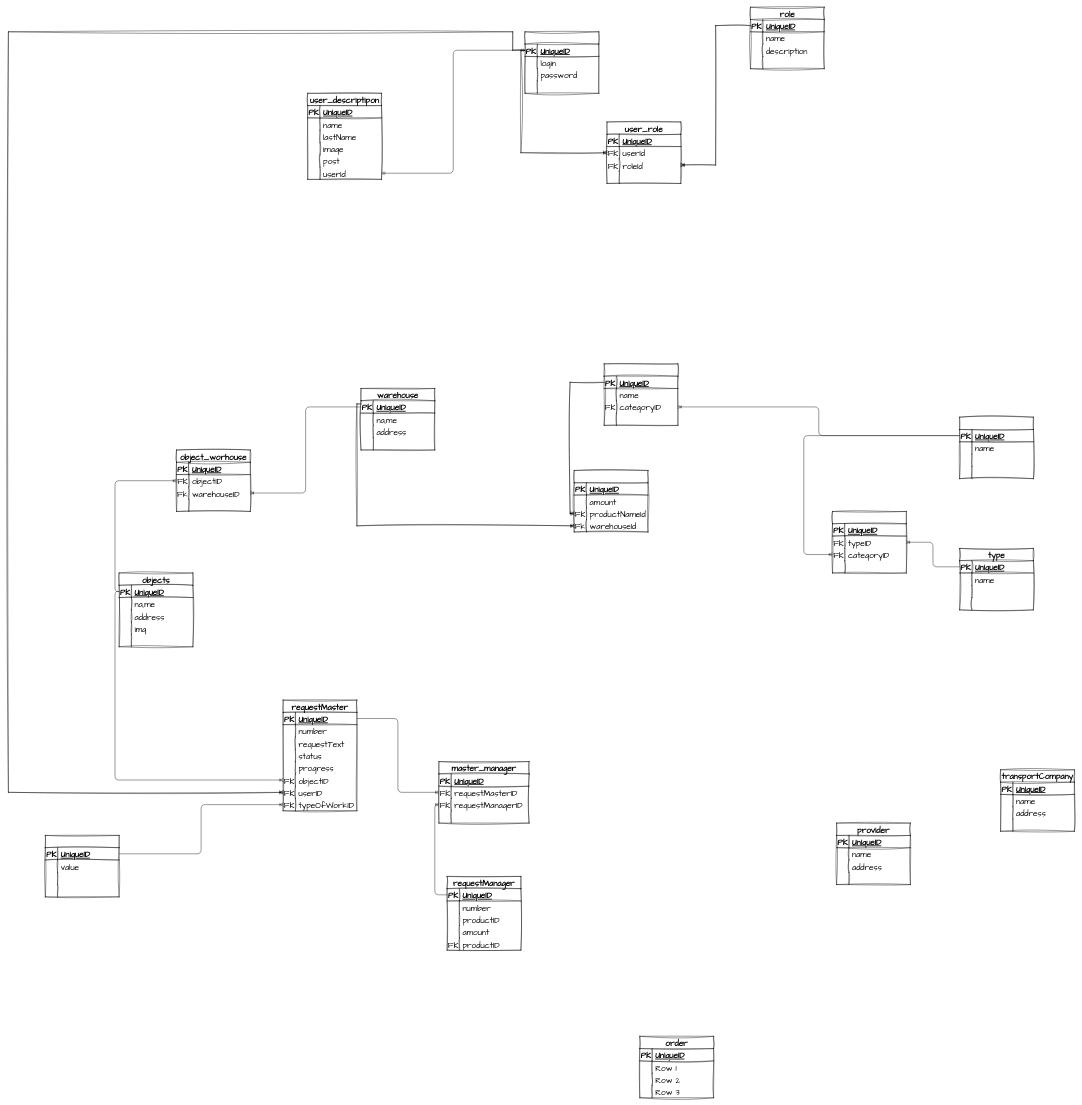
Some shapes in this 1082 by 1105 pixel diagram are drawn without their labels. The shapes that lost their labels are listed below. From the top down, each one's box as (x1, y1, x2, y2) in pixels, then its label:
(525, 31, 599, 93): user
(604, 363, 678, 425): productName
(959, 417, 1033, 479): category
(574, 470, 648, 532): stockResidue
(832, 511, 906, 573): type_category
(45, 835, 119, 897): typeOfWork
